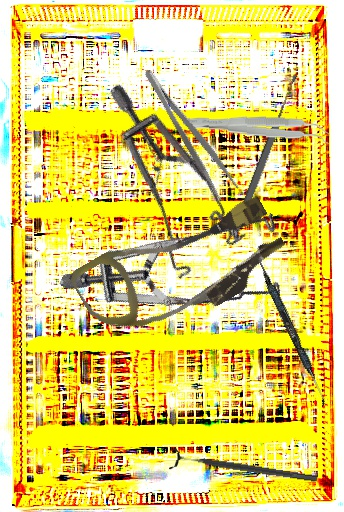Cannula: (67, 172, 295, 364)
Dressing Forceps: (140, 59, 241, 204)
Fixation Ring: (169, 446, 319, 491)
Spatula Surgical: (250, 253, 332, 407)
Speculum: (58, 143, 311, 374), (44, 81, 279, 298)
Surgical Spoon: (229, 73, 301, 239)
Tissue Forceps: (182, 112, 331, 145)
